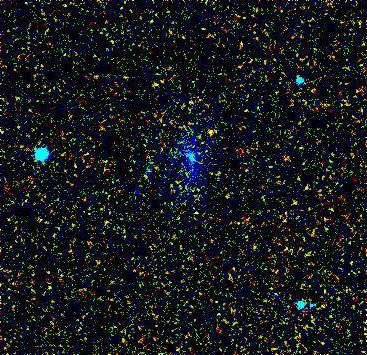star: (198, 120, 228, 150)
